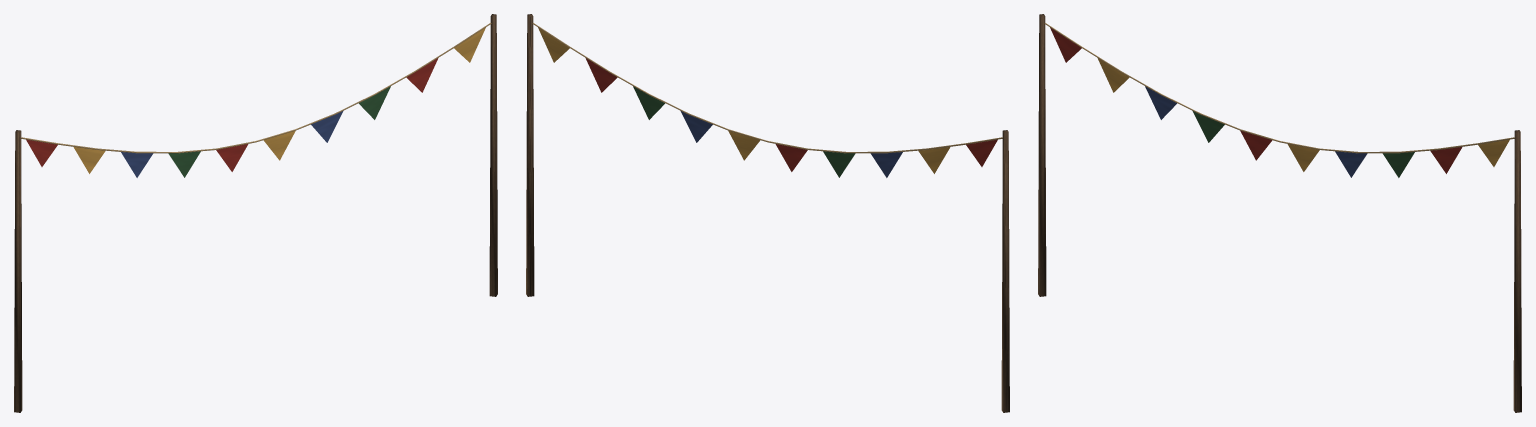
The model's file is Bunting_Garland_1_LOD1.gltf.
3 renders of one model, left to right at view 1: azimuth 30°, elevation 25°; view 2: azimuth 150°, elevation 25°; view 3: azimuth 330°, elevation 25°, orthographic.
Parts seen in each view (by area): view 1: Bunting_Garland_1_LOD1; view 2: Bunting_Garland_1_LOD1; view 3: Bunting_Garland_1_LOD1.
Part boxes in pixels (x1,y1,x2,y2): Bunting_Garland_1_LOD1: (14,14,497,412); Bunting_Garland_1_LOD1: (526,14,1009,412); Bunting_Garland_1_LOD1: (1038,14,1521,412).
Bounding box in the file's own units: 8.14 × 4.5 × 0.14.
Materials: 6 (6 with a texture image).
